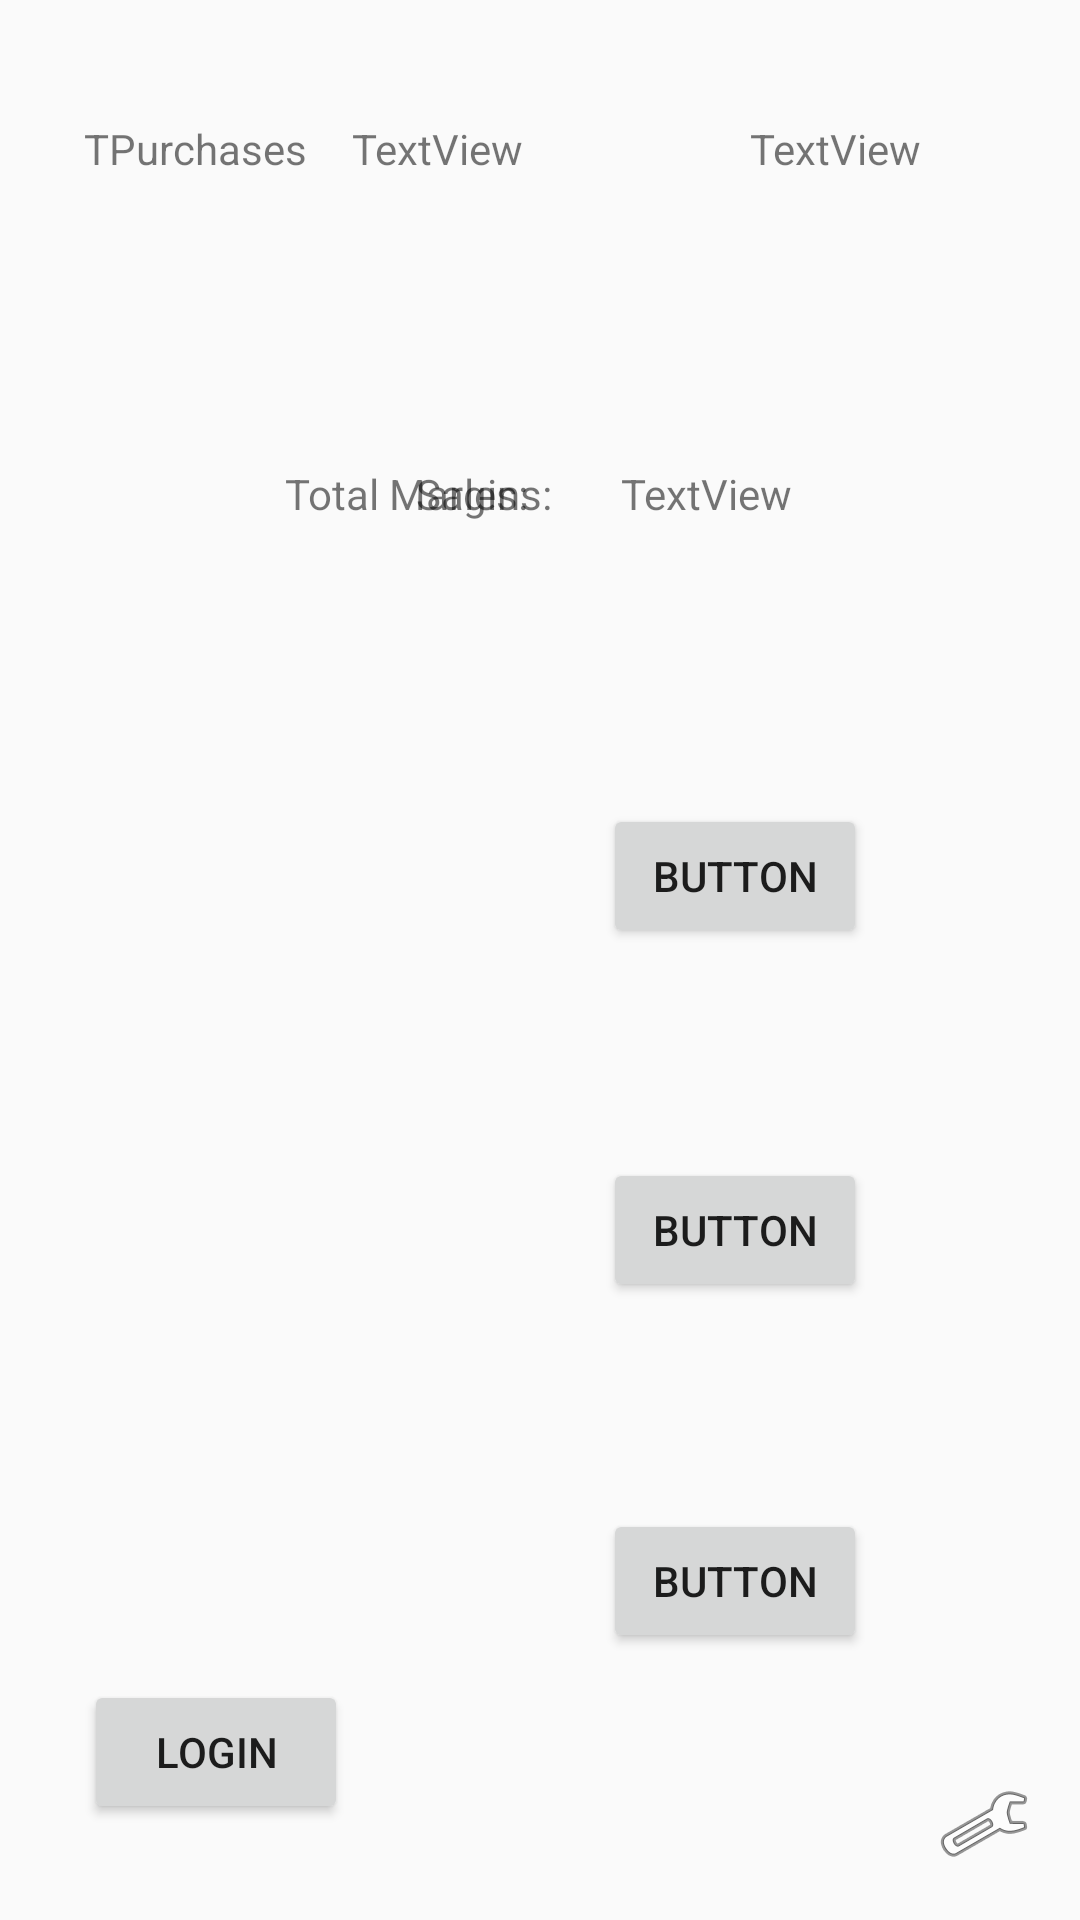

Icon bounding boxes for this 1080w x 1920h phone screenshot, format detection(x1, y1, x2, y2):
preferences: detection(941, 1791, 1027, 1857)
